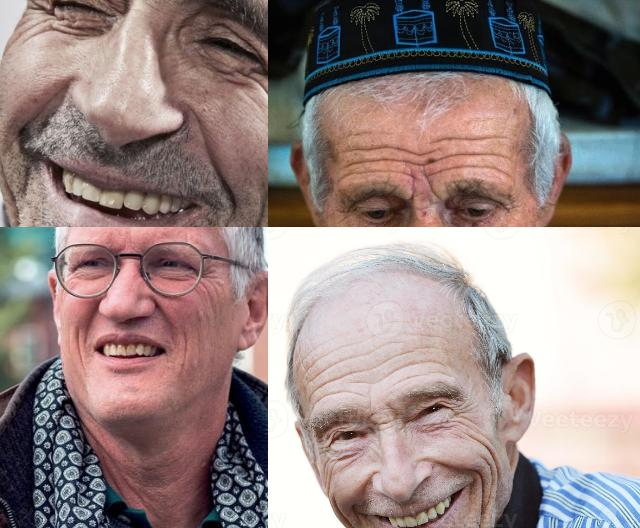crows_feet: (23, 0, 55, 28), (452, 398, 474, 430), (314, 436, 334, 466), (195, 264, 217, 288)
forehead: (377, 342, 417, 380), (306, 358, 336, 402), (340, 349, 366, 396), (347, 140, 387, 166), (461, 148, 495, 174), (392, 142, 423, 170), (468, 128, 504, 148), (341, 165, 389, 180), (423, 352, 449, 378), (429, 152, 456, 176), (434, 128, 461, 148)
frown_line: (421, 176, 444, 202), (372, 410, 396, 434), (406, 176, 420, 204)
gummy_smile: (192, 120, 228, 176), (78, 296, 102, 334), (432, 454, 464, 474), (150, 292, 170, 322)
masseter: (473, 434, 503, 479), (62, 326, 90, 368), (472, 484, 491, 528), (330, 498, 357, 528), (177, 330, 193, 378)
